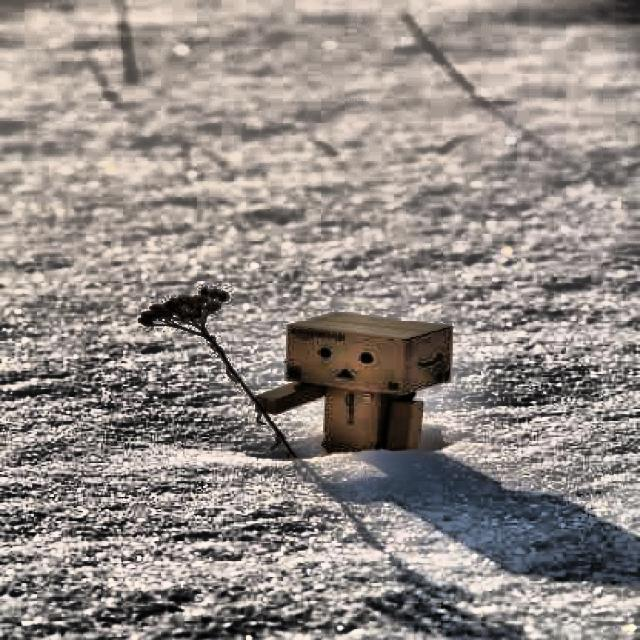Cardbox: (289, 317, 450, 453)
